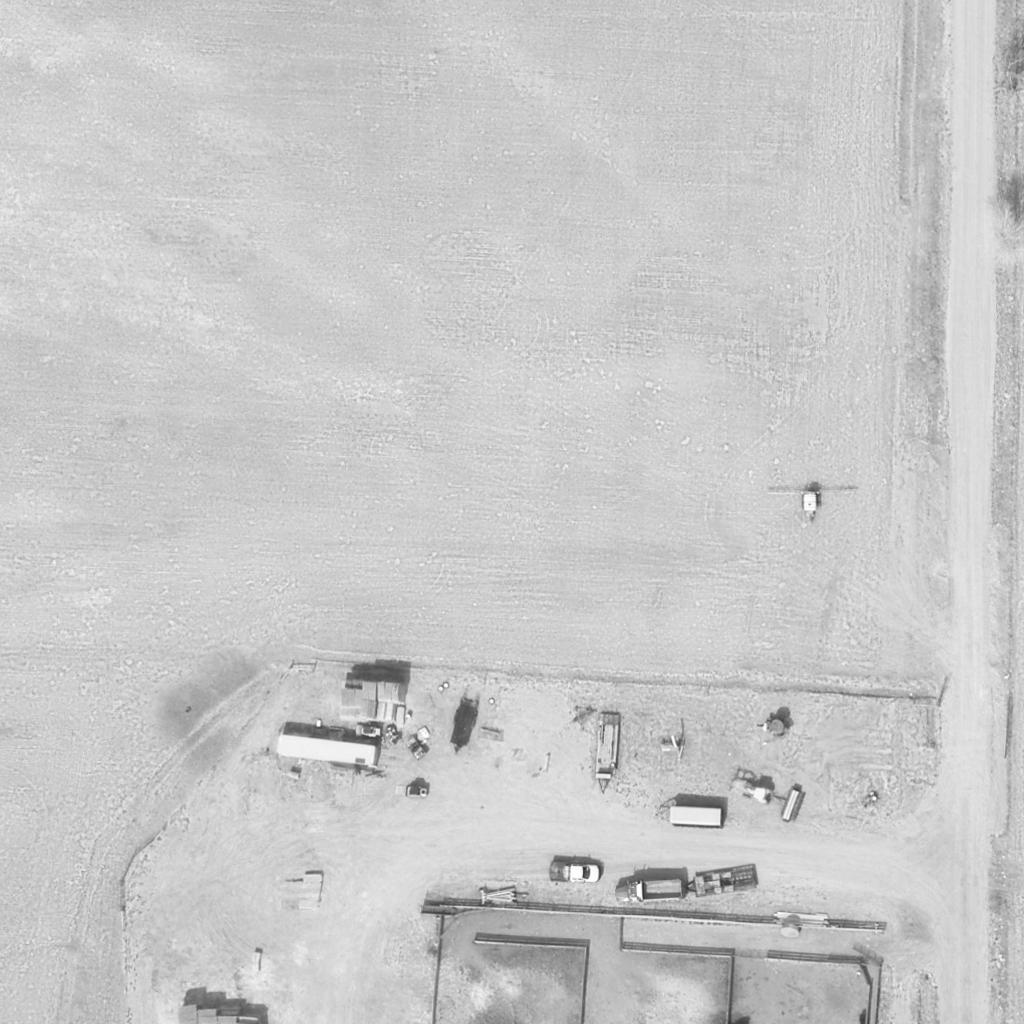vehicle: (611, 877, 691, 911), (736, 777, 776, 807), (550, 863, 602, 885)
